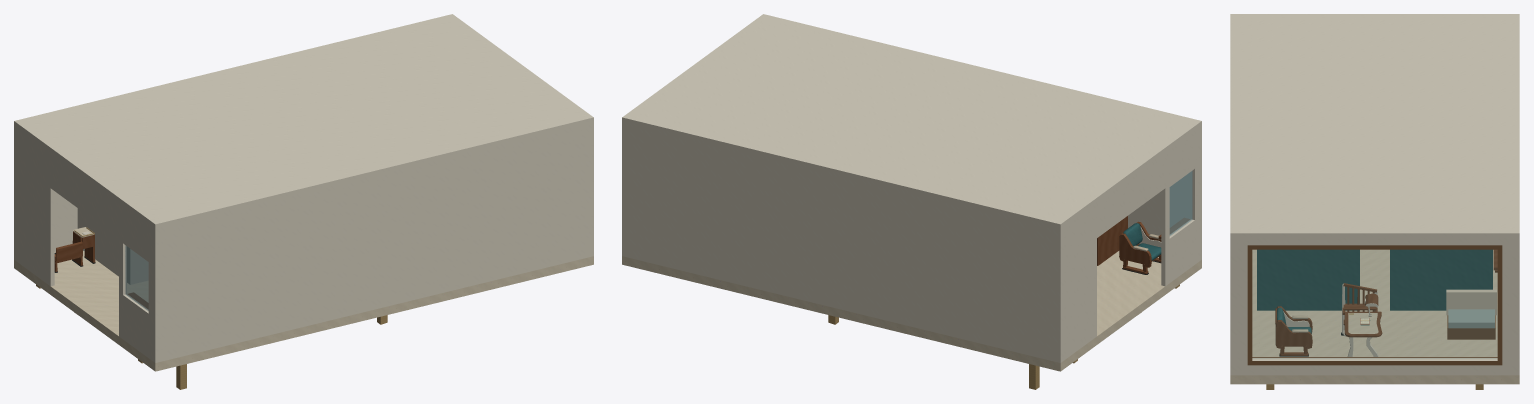
File: NG524_PanoramicSuite_r001.glb
The picture shows the model from 3 angles, left to right: view 1: azimuth 30°, elevation 25°; view 2: azimuth 150°, elevation 25°; view 3: azimuth 270°, elevation 25°; orthographic projection. The views are drawn at different scales.
Parts seen in each view (by area): view 1: NG524_RuntimeBatch_001, NG524_RoomFloor, NG524_ScreenedStreetGlass, NG524_RuntimeBatch_013; view 2: NG524_RuntimeBatch_001, NG524_RoomFloor, NG524_ScreenedStreetGlass, NG524_RuntimeBatch_049, NG524_RuntimeBatch_002; view 3: NG524_RuntimeBatch_001, NGP_524_PrivateViewPane, NG524_RoomFloor, NG524_RuntimeBatch_006, NGP_524_Frame_Sill, NGP_524_Frame_Head, NGP_524_ViewSeat_Back, NG524_RuntimeBatch_028, NG524_RuntimeBatch_007, NGP_524_ViewSeat_Cushion, NGP_524_Frame_Left, NGP_524_Frame_Right (+3 smaller).
Part boxes in pixels (bbox=[...]): NG524_RuntimeBatch_001: bbox=[14, 14, 593, 362]; NG524_RoomFloor: bbox=[14, 250, 593, 371]; NG524_ScreenedStreetGlass: bbox=[125, 245, 148, 310]; NG524_RuntimeBatch_013: bbox=[54, 231, 95, 271]; NG524_RuntimeBatch_001: bbox=[622, 14, 1201, 362]; NG524_RoomFloor: bbox=[622, 251, 1201, 371]; NG524_ScreenedStreetGlass: bbox=[1169, 171, 1192, 235]; NG524_RuntimeBatch_049: bbox=[1119, 221, 1161, 274]; NG524_RuntimeBatch_002: bbox=[1097, 216, 1190, 265]; NG524_RuntimeBatch_001: bbox=[1230, 14, 1519, 375]; NGP_524_PrivateViewPane: bbox=[1252, 250, 1497, 358]; NG524_RoomFloor: bbox=[1230, 249, 1519, 384]; NG524_RuntimeBatch_006: bbox=[1257, 249, 1492, 310]; NGP_524_Frame_Sill: bbox=[1247, 357, 1502, 365]; NGP_524_Frame_Head: bbox=[1247, 245, 1502, 249]; NGP_524_ViewSeat_Back: bbox=[1446, 289, 1496, 315]; NG524_RuntimeBatch_028: bbox=[1275, 306, 1312, 355]; NG524_RuntimeBatch_007: bbox=[1342, 283, 1382, 337]; NGP_524_ViewSeat_Cushion: bbox=[1448, 309, 1494, 328]; NGP_524_Frame_Left: bbox=[1497, 249, 1502, 360]; NGP_524_Frame_Right: bbox=[1247, 249, 1252, 360].
Size of the model in its own units: 12.9 by 5.31 by 7.2.
77 materials, 49 textured.
